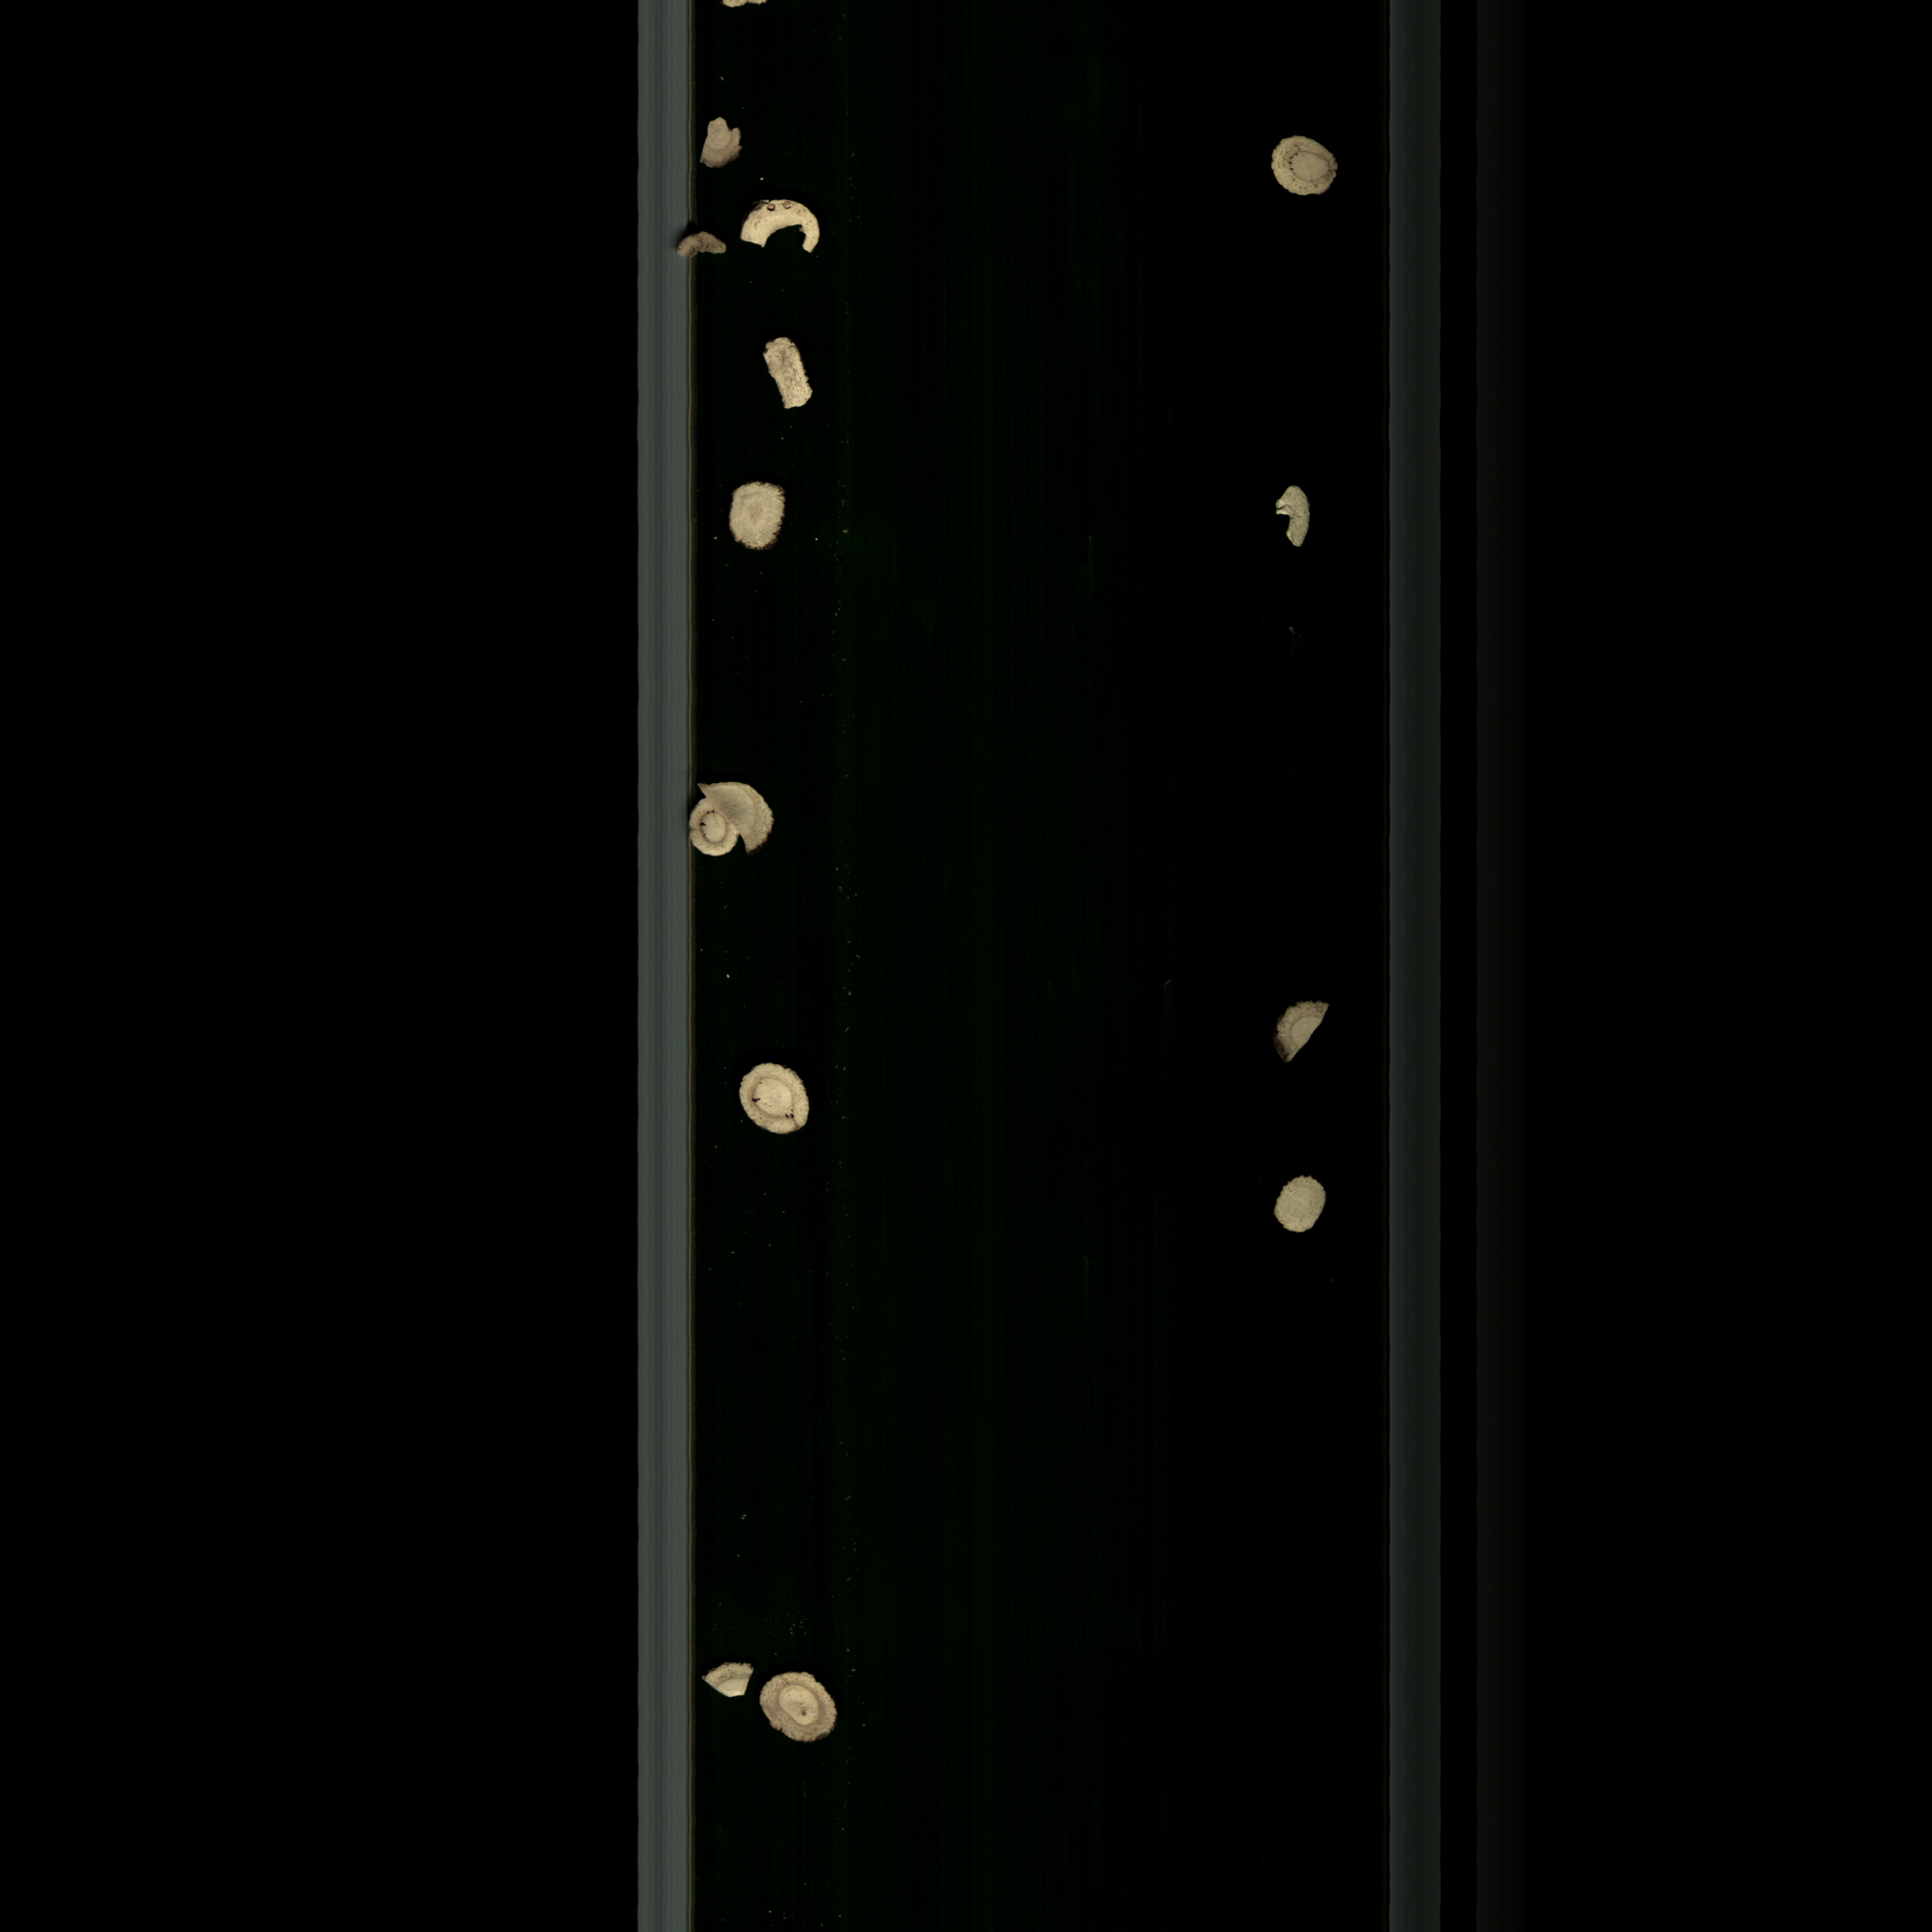debris: (704, 764, 803, 851), (738, 195, 840, 272), (1267, 989, 1339, 1077)
distortion: (750, 333, 826, 423)
dreg: (1263, 474, 1316, 557), (695, 1658, 757, 1700)
hole: (729, 1060, 816, 1152)
moldy: (752, 1672, 847, 1753), (1269, 133, 1345, 209), (699, 110, 754, 173), (672, 226, 734, 274)
